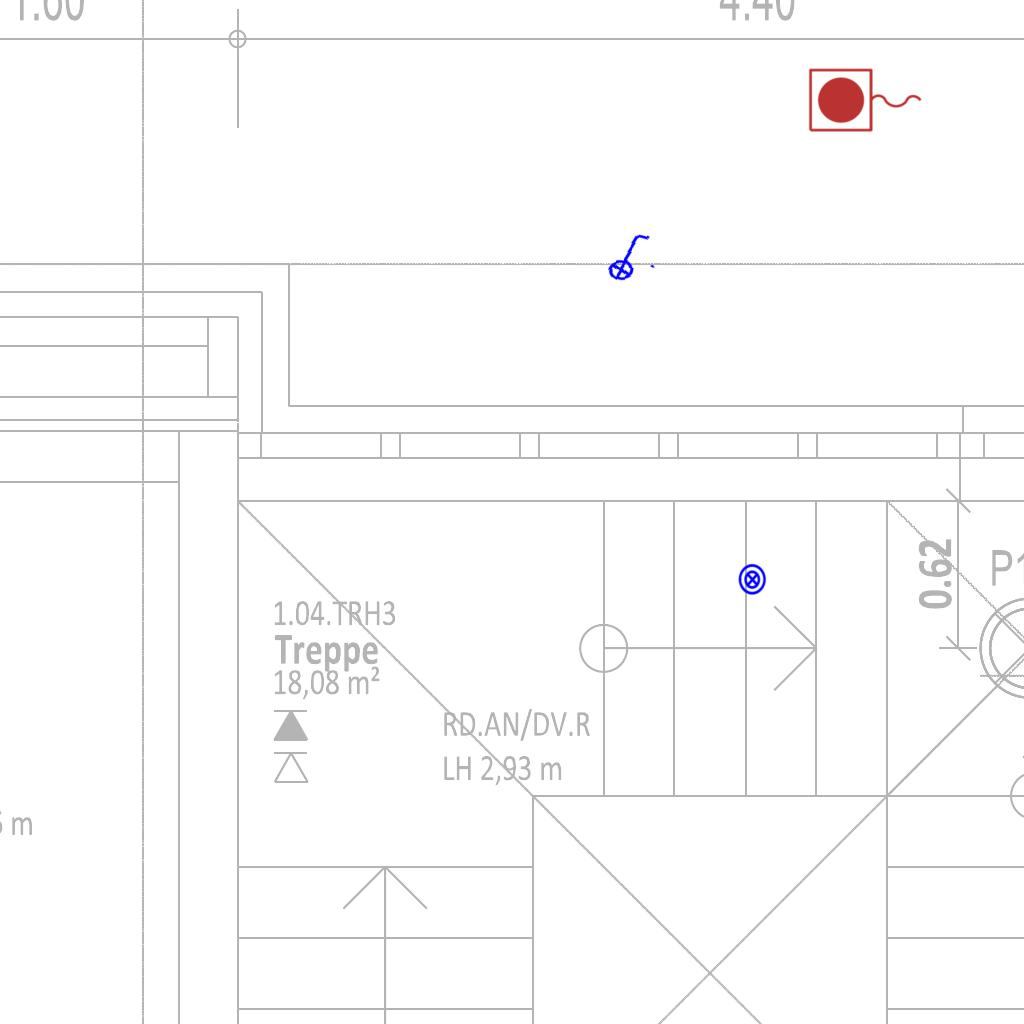Ausschalter_beleuchtet: (597, 228, 659, 284)
Taster_beleuchtet: (736, 563, 769, 596)
Zugtaster: (805, 65, 927, 137)
